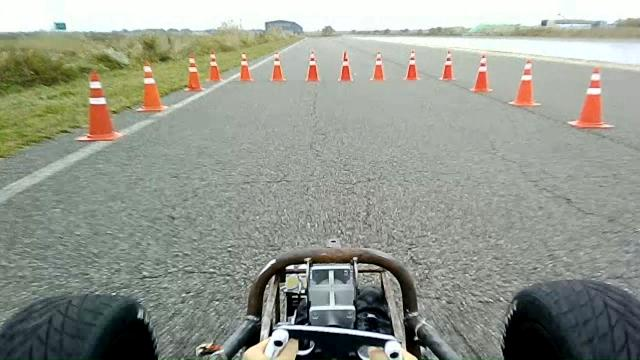red cone: (74, 70, 125, 142), (568, 66, 614, 128), (136, 60, 168, 112), (508, 58, 540, 107), (470, 54, 492, 93), (184, 53, 204, 91), (236, 51, 254, 82), (439, 49, 456, 81), (337, 49, 353, 82), (269, 51, 286, 82), (206, 50, 222, 82), (369, 51, 386, 81), (305, 49, 320, 82), (405, 49, 420, 80)
